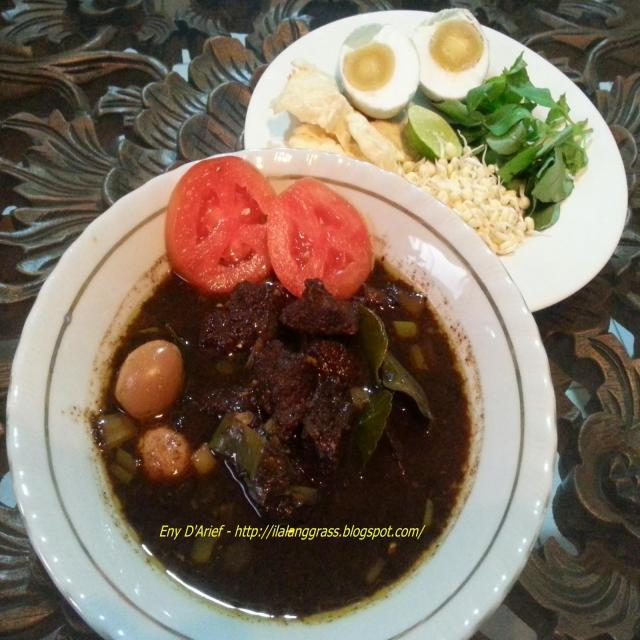Rawon: (127, 272, 454, 583)
